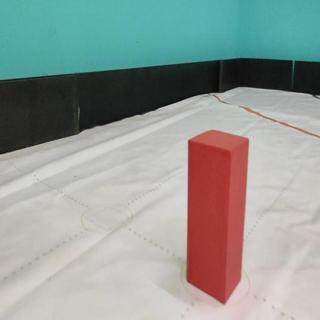redbox: (185, 129, 249, 306)
